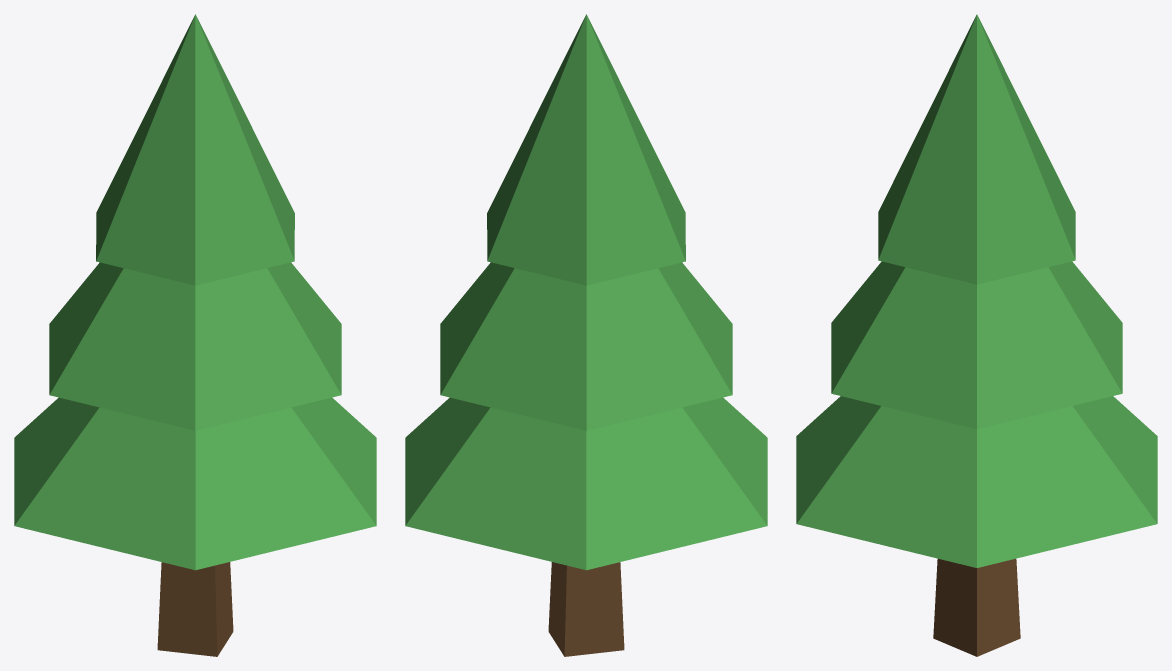
File: pine.obj
3 views of the same model, side by side, from view 1: azimuth 30°, elevation 25°; view 2: azimuth 150°, elevation 25°; view 3: azimuth 270°, elevation 25° (orthographic).
Size of the model in its own units: 1.24 by 2.05 by 1.07.
